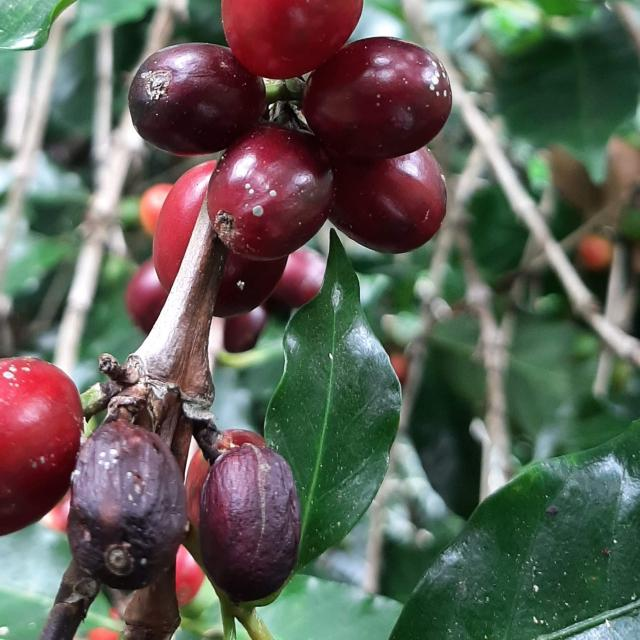red: (67, 420, 188, 591), (303, 36, 452, 159), (206, 123, 334, 260), (199, 444, 301, 603), (128, 42, 266, 156), (0, 358, 82, 536), (329, 146, 447, 253), (221, 0, 363, 78), (153, 160, 215, 291), (214, 252, 287, 317), (185, 450, 210, 527), (217, 430, 266, 452)
